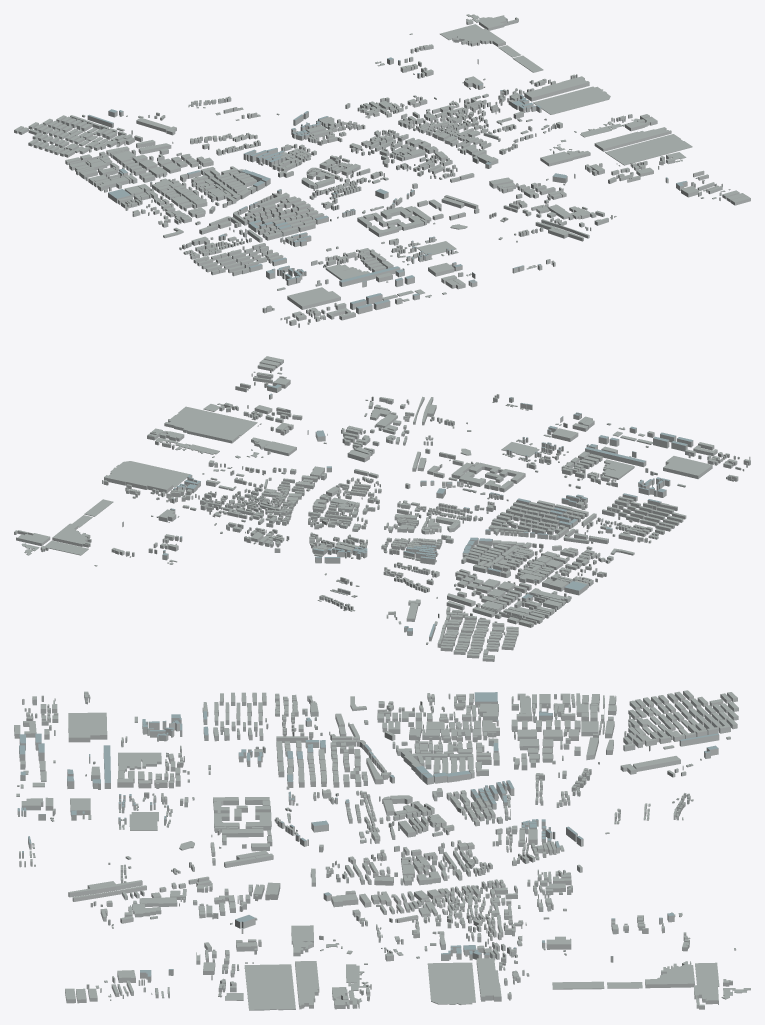
The model's file is far.glb.
3 views of the same model, one above another, from view 1: azimuth 30°, elevation 25°; view 2: azimuth 150°, elevation 25°; view 3: azimuth 270°, elevation 25° (orthographic). The views are drawn at different scales.
Bounding box in the file's own units: 2190 × 28.8 × 2153.
